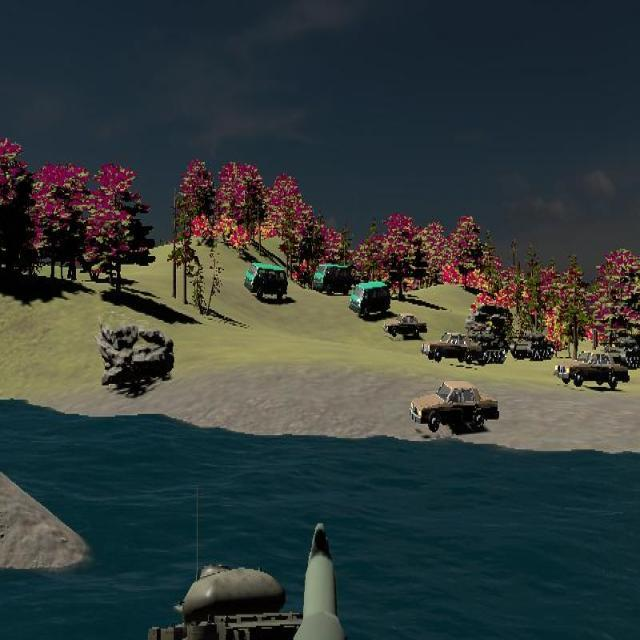Tank: (510, 329, 556, 361)
car: (409, 380, 500, 434), (554, 352, 630, 389), (423, 331, 478, 364), (244, 262, 288, 302), (349, 280, 391, 320), (313, 263, 354, 296), (384, 313, 428, 339)
